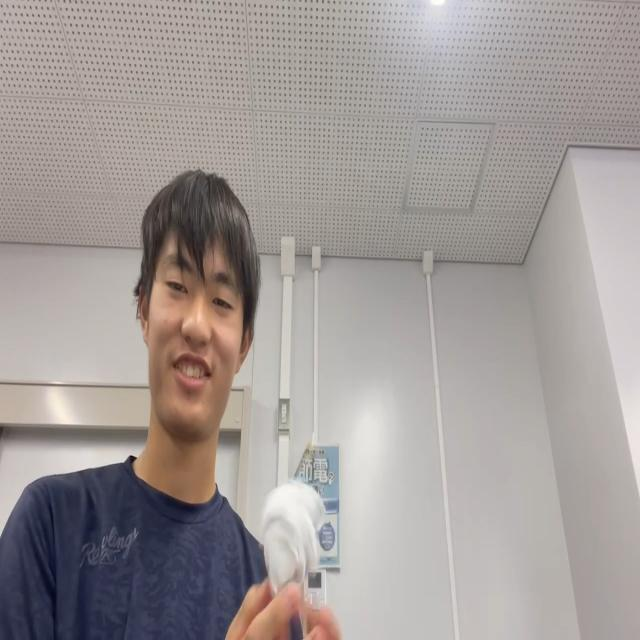paper: (260, 480, 326, 597)
